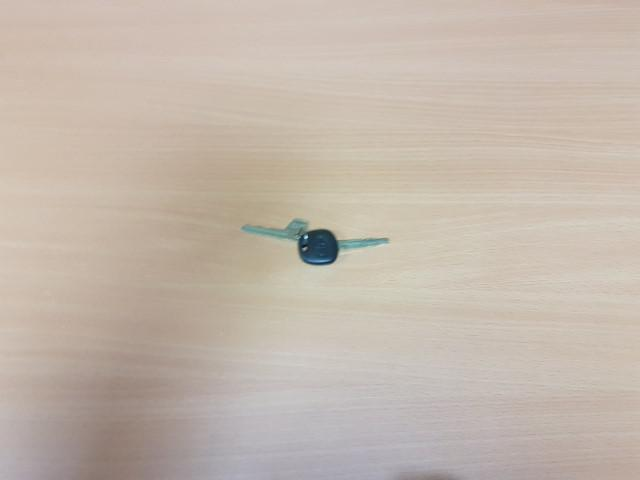key: (301, 229, 388, 265)
